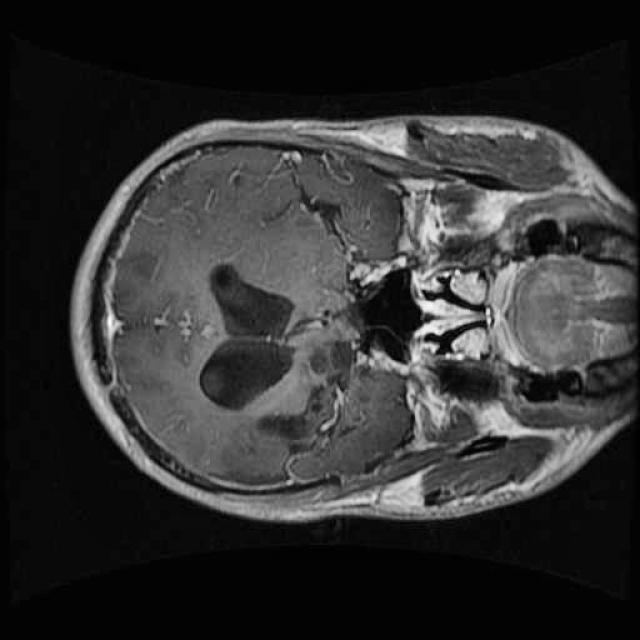Tumor: (239, 316, 371, 466)
